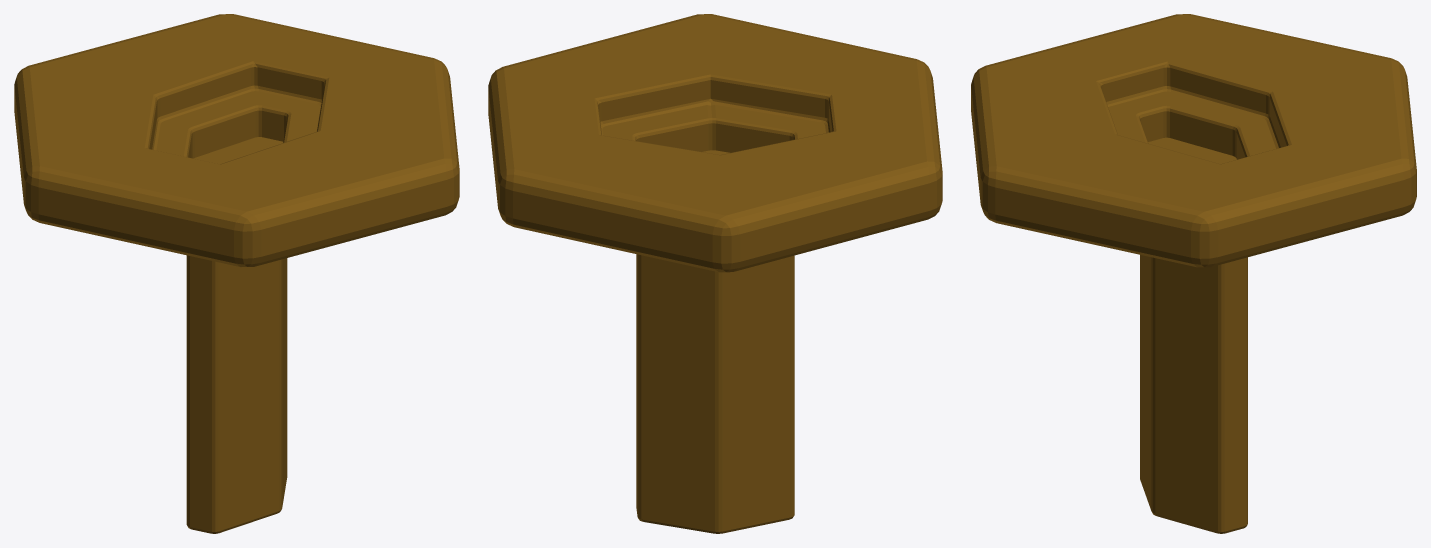
The model's file is asset.glb.
3 renders of one model, left to right at view 1: azimuth 30°, elevation 25°; view 2: azimuth 150°, elevation 25°; view 3: azimuth 270°, elevation 25°, orthographic. The views are drawn at different scales.
Visible parts, largest first — view 1: Cylinder; view 2: Cylinder; view 3: Cylinder.
Part boxes in pixels (x1,y1,x2,y2): Cylinder: [14, 14, 459, 533]; Cylinder: [488, 14, 942, 533]; Cylinder: [971, 14, 1416, 533].
Size of the model in its own units: 0.3889 by 0.3396 by 0.3502.
